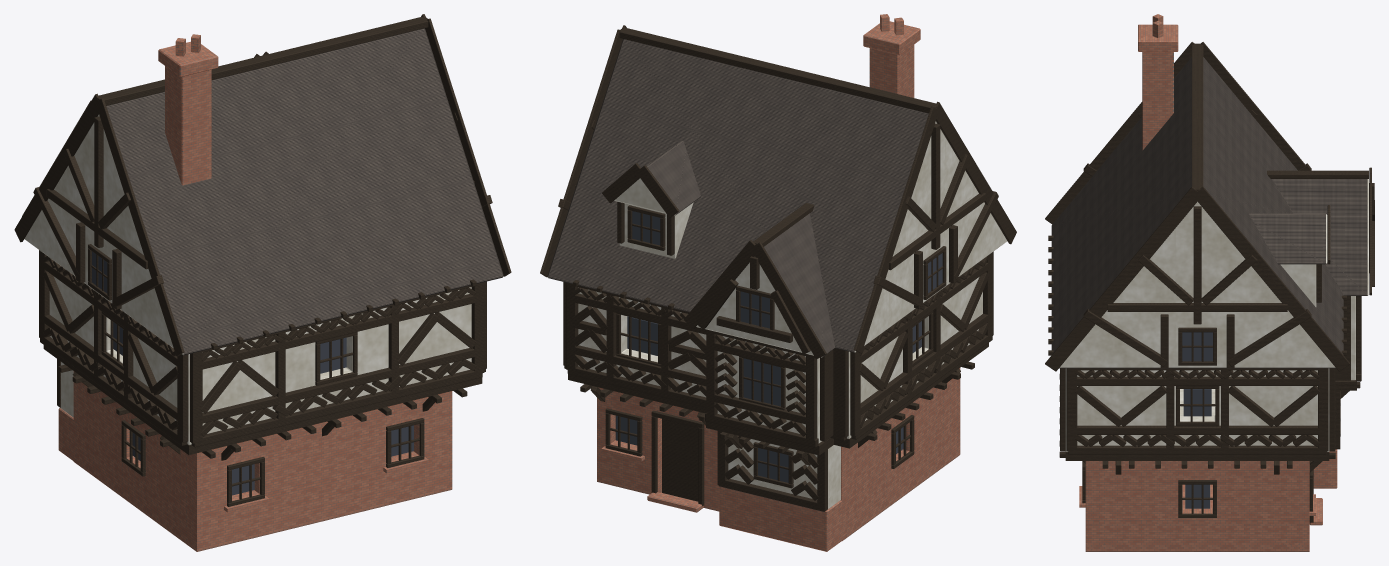
The model's file is tudor-cottage.glb.
3 views of the same model, side by side, from view 1: azimuth 30°, elevation 25°; view 2: azimuth 150°, elevation 25°; view 3: azimuth 270°, elevation 25° (orthographic). The views are drawn at different scales.
Parts seen in each view (by area): view 1: Roof, TimberFrame, GroundFloor, UpperFloor, Chimney, Bressummer, ChimneyCap, WingPlinth, panel.006; view 2: TimberFrame, Roof, GroundFloor, WingRoof, WingPlinth, UpperFloor, DormerRoof, Door, Chimney, WingGround, Bressummer, WingUpper (+9 smaller); view 3: Roof, TimberFrame, GroundFloor, UpperFloor, WingRoof, DormerRoof, Chimney, Bressummer, ChimneyCap, DormerWalls, glassPanel.003, WingPlinth (+3 smaller).
Boxes of the visible parts, bbox=[...] form: Roof: bbox=[24, 28, 503, 355]; TimberFrame: bbox=[14, 14, 511, 506]; GroundFloor: bbox=[73, 371, 452, 551]; UpperFloor: bbox=[49, 276, 471, 444]; Chimney: bbox=[165, 66, 211, 185]; Bressummer: bbox=[43, 345, 482, 454]; ChimneyCap: bbox=[158, 41, 218, 77]; WingPlinth: bbox=[58, 408, 78, 464]; panel.006: bbox=[320, 337, 346, 373]; TimberFrame: bbox=[540, 25, 1016, 511]; Roof: bbox=[547, 39, 1007, 352]; GroundFloor: bbox=[597, 368, 960, 540]; WingRoof: bbox=[696, 213, 835, 357]; WingPlinth: bbox=[719, 486, 847, 551]; UpperFloor: bbox=[578, 277, 982, 438]; DormerRoof: bbox=[614, 141, 700, 215]; Door: bbox=[662, 418, 698, 501]; Chimney: bbox=[869, 44, 914, 97]; WingGround: bbox=[728, 439, 840, 508]; Bressummer: bbox=[568, 343, 988, 448]; WingUpper: bbox=[717, 336, 821, 443]; Roof: bbox=[1051, 57, 1343, 368]; TimberFrame: bbox=[1045, 42, 1374, 522]; GroundFloor: bbox=[1085, 461, 1309, 551]; UpperFloor: bbox=[1065, 368, 1329, 451]; WingRoof: bbox=[1272, 179, 1368, 295]; DormerRoof: bbox=[1249, 213, 1327, 264]; Chimney: bbox=[1142, 52, 1173, 150]; Bressummer: bbox=[1065, 451, 1329, 460]; ChimneyCap: bbox=[1138, 24, 1178, 51]; DormerWalls: bbox=[1280, 264, 1316, 306]; glassPanel.003: bbox=[1182, 332, 1212, 361]; WingPlinth: bbox=[1313, 449, 1337, 488].
Bounding box in the file's own units: 7.97 × 10.88 × 7.51.
Materials: 6 (4 with a texture image).
